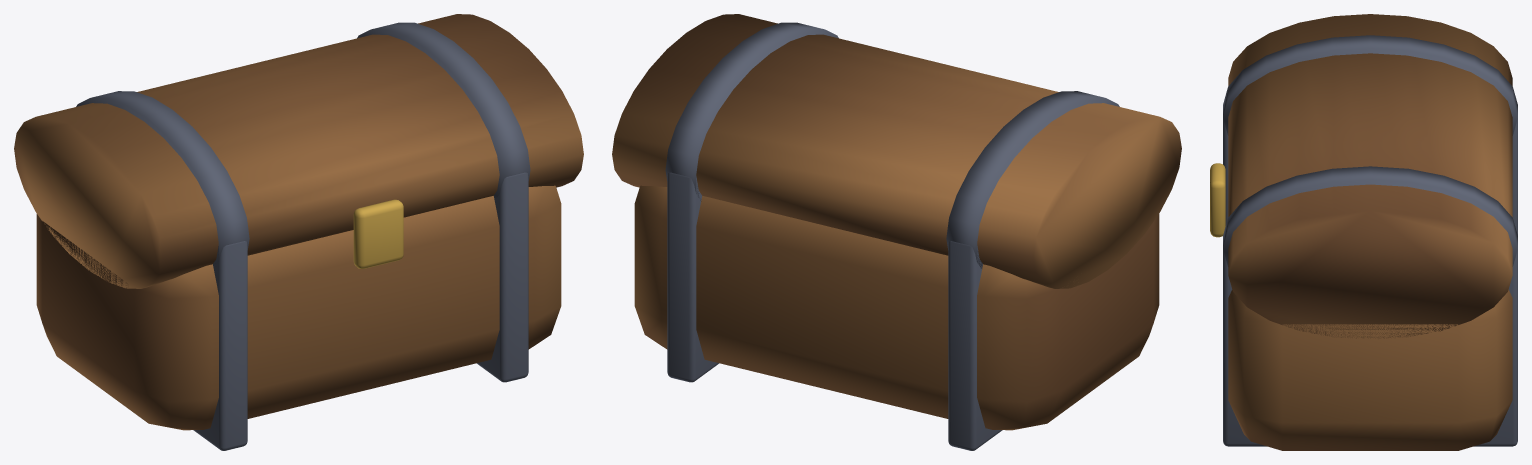
The model's file is truhe.glb.
3 views of the same model, side by side, from view 1: azimuth 30°, elevation 25°; view 2: azimuth 150°, elevation 25°; view 3: azimuth 270°, elevation 25° (orthographic). The views are drawn at different scales.
Parts seen in each view (by area): view 1: truhe-matt, truhe-metall; view 2: truhe-matt, truhe-metall; view 3: truhe-matt, truhe-metall.
Boxes of the visible parts, bbox=[...] form: truhe-matt: bbox=[14, 14, 583, 430]; truhe-metall: bbox=[76, 22, 530, 450]; truhe-matt: bbox=[612, 14, 1181, 430]; truhe-metall: bbox=[665, 22, 1119, 450]; truhe-matt: bbox=[1228, 14, 1512, 450]; truhe-metall: bbox=[1210, 35, 1517, 446].
Bounding box in the file's own units: 0.9 × 0.5732 × 0.595.
